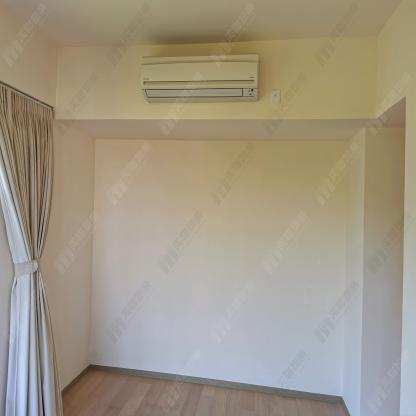AC: (140, 54, 260, 104)
